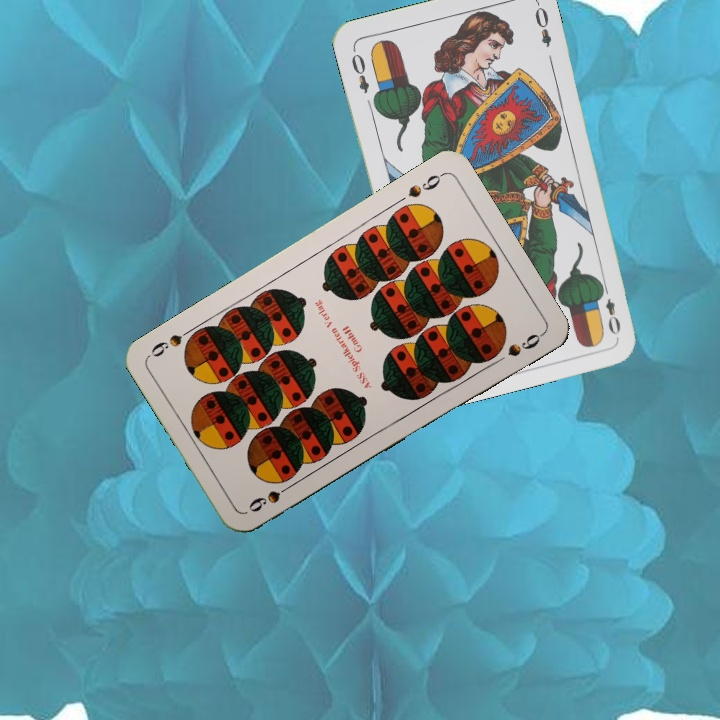EO: (596, 280, 623, 338), (347, 45, 372, 96)
S9: (244, 478, 297, 515), (404, 169, 447, 201)
